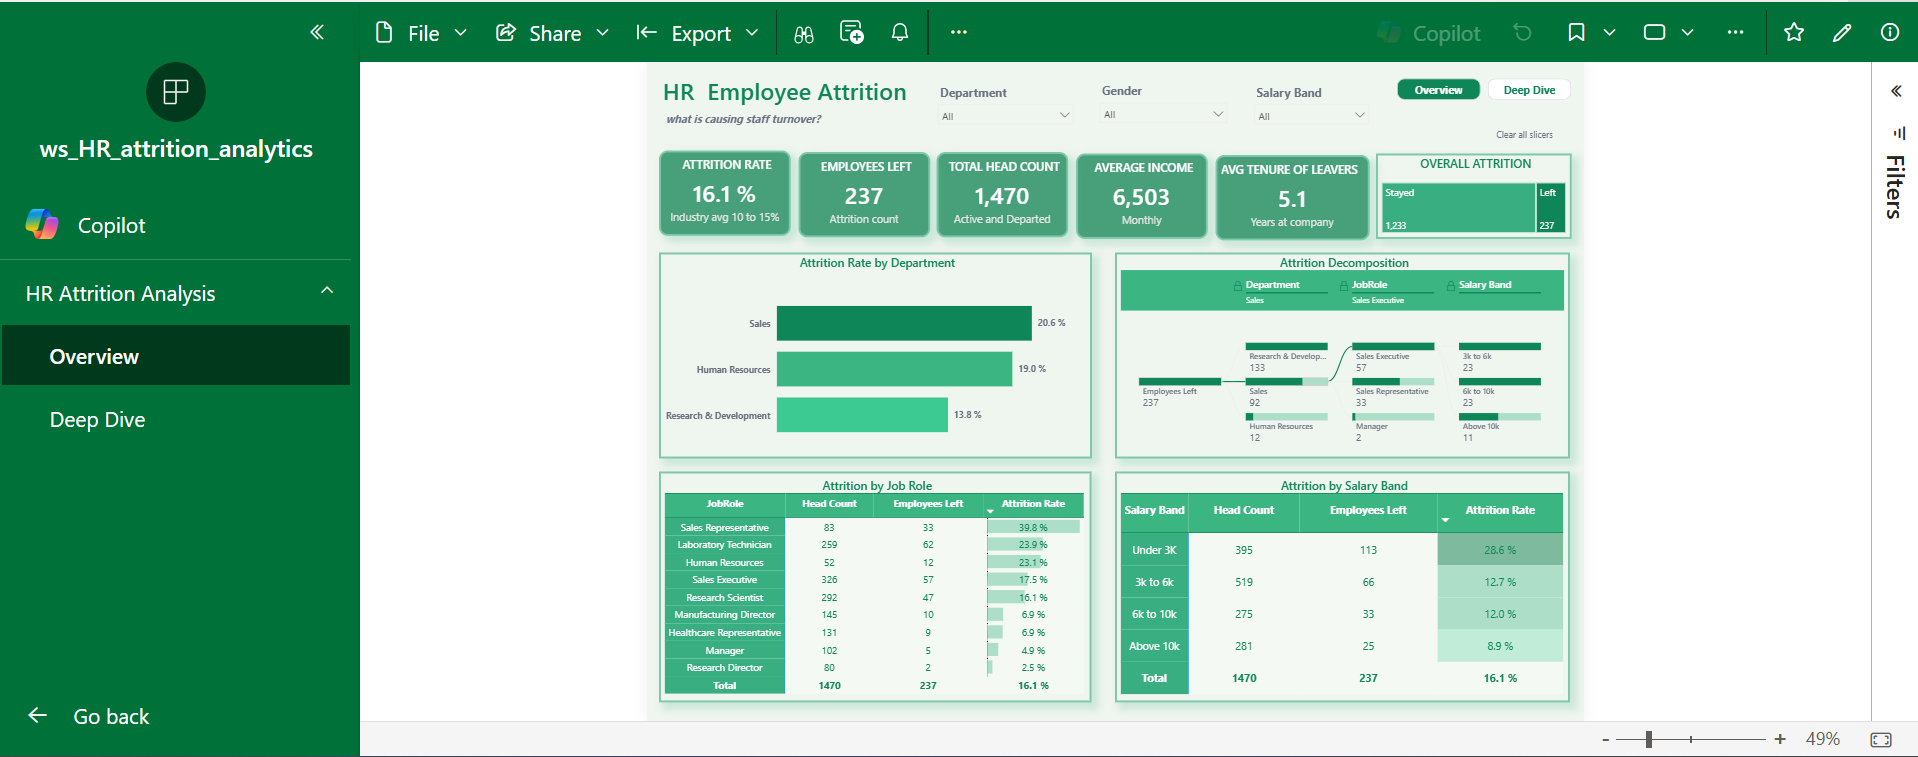

Layout of this report page (visuals, bound fields, positions):
{"tool":"powerbi","page":{"name":"Overview","canvas":[1280,900],"ordinal":0},"visuals":[{"type":"group","id":"g1","title":"Group 1","box":[16.2,12.1,370.4,89.1],"z":0},{"type":"textbox","box":[16.2,12.1,370.8,57.9],"z":0,"group":"g1"},{"type":"cardVisual","title":"AVG TENURE OF LEAVERS ","fields":{"Data":["hr_employees.Avg Tenure of Leavers"]},"box":[775.5,125.4,210.5,116.6],"z":0,"group":"g3"},{"type":"group","id":"g2","title":"Group 2","box":[386.6,22.3,609.2,81],"z":1000},{"type":"slicer","fields":{"Values":["hr_employees.Department"]},"box":[386.6,24.1,205.6,75.4],"z":1000,"group":"g2"},{"type":"textbox","box":[20.1,62.3,255.8,38.9],"z":1000,"group":"g1"},{"type":"cardVisual","title":"AVERAGE INCOME","fields":{"Data":["hr_employees.Avg Monthly Income"]},"box":[585.7,124.1,180,116.6],"z":1000,"group":"g3"},{"type":"slicer","fields":{"Values":["hr_employees.Gender"]},"box":[608.4,22.3,194.3,77.3],"z":2000,"group":"g2"},{"type":"actionButton","box":[1137.5,78.9,123.1,37.2],"z":2000},{"type":"cardVisual","title":"TOTAL HEAD COUNT","fields":{"Data":["hr_employees.Head Count"]},"box":[395.9,122.8,180,116.6],"z":2000,"group":"g3"},{"type":"pageNavigator","box":[1024.2,22.3,239.6,29.1],"z":3000},{"type":"slicer","fields":{"Values":["hr_employees.Salary Band"]},"box":[818.9,24.1,176.5,79.1],"z":3000,"group":"g2"},{"type":"cardVisual","title":"EMPLOYEES LEFT","fields":{"Data":["hr_employees.Employees Left"]},"box":[206,121.4,180,116.6],"z":3000,"group":"g3"},{"type":"group","id":"g3","title":"Group 3","box":[16.2,120.1,969.8,121.9],"z":4000},{"type":"cardVisual","title":"ATTRITION RATE","fields":{"Data":["hr_employees.Attrition Rate"]},"box":[16.2,120.1,180,116.6],"z":4000,"group":"g3"},{"type":"treemap","title":"OVERALL ATTRITION","fields":{"Values":["hr_employees.Employees Left","hr_employees.Employees Stayed"]},"box":[995.8,125,267.2,116.6],"z":5000},{"type":"barChart","fields":{"Category":["hr_employees.Department"],"Y":["hr_employees.Attrition Rate"]},"box":[16.2,261.1,591,281.3],"z":6000},{"type":"decompositionTreeVisual","title":"Attrition Decomposition","fields":{"Analyze":["hr_employees.Employees Left"],"ExplainBy":["hr_employees.Department","hr_employees.JobRole","hr_employees.Salary Band"]},"box":[639.6,261.1,621.4,281.3],"z":7000},{"type":"pivotTable","title":"Attrition by Job Role","fields":{"Rows":["hr_employees.JobRole"],"Values":["hr_employees.Head Count","hr_employees.Employees Left","hr_employees.Attrition Rate"]},"box":[16.2,558.6,590.7,315.4],"z":8000},{"type":"pivotTable","title":"Attrition by Salary Band","fields":{"Rows":["hr_employees.Salary Band"],"Values":["hr_employees.Head Count","hr_employees.Employees Left","hr_employees.Attrition Rate"]},"box":[640,559,621,315],"z":9000}]}

Visuals, with their boxes on the page's 1280x900 design canvas (x1, y1, x2, y2). These are canvas units, not pixel positions in the 1918x757 screenshot, which may show the page scaled, cropped or inside an application window:
"Group 1" group: (left=16, top=12, right=387, bottom=101)
textbox: (left=16, top=12, right=387, bottom=70)
"AVG TENURE OF LEAVERS " cardVisual: (left=776, top=125, right=986, bottom=242)
"Group 2" group: (left=387, top=22, right=996, bottom=103)
slicer - hr_employees.Department: (left=387, top=24, right=592, bottom=100)
textbox: (left=20, top=62, right=276, bottom=101)
"AVERAGE INCOME" cardVisual: (left=586, top=124, right=766, bottom=241)
slicer - hr_employees.Gender: (left=608, top=22, right=803, bottom=100)
actionButton: (left=1138, top=79, right=1261, bottom=116)
"TOTAL HEAD COUNT" cardVisual: (left=396, top=123, right=576, bottom=239)
pageNavigator: (left=1024, top=22, right=1264, bottom=51)
slicer - hr_employees.Salary Band: (left=819, top=24, right=995, bottom=103)
"EMPLOYEES LEFT" cardVisual: (left=206, top=121, right=386, bottom=238)
"Group 3" group: (left=16, top=120, right=986, bottom=242)
"ATTRITION RATE" cardVisual: (left=16, top=120, right=196, bottom=237)
"OVERALL ATTRITION" treemap: (left=996, top=125, right=1263, bottom=242)
barChart - hr_employees.Department x hr_employees.Attrition Rate: (left=16, top=261, right=607, bottom=542)
"Attrition Decomposition" decompositionTreeVisual: (left=640, top=261, right=1261, bottom=542)
"Attrition by Job Role" pivotTable: (left=16, top=559, right=607, bottom=874)
"Attrition by Salary Band" pivotTable: (left=640, top=559, right=1261, bottom=874)
